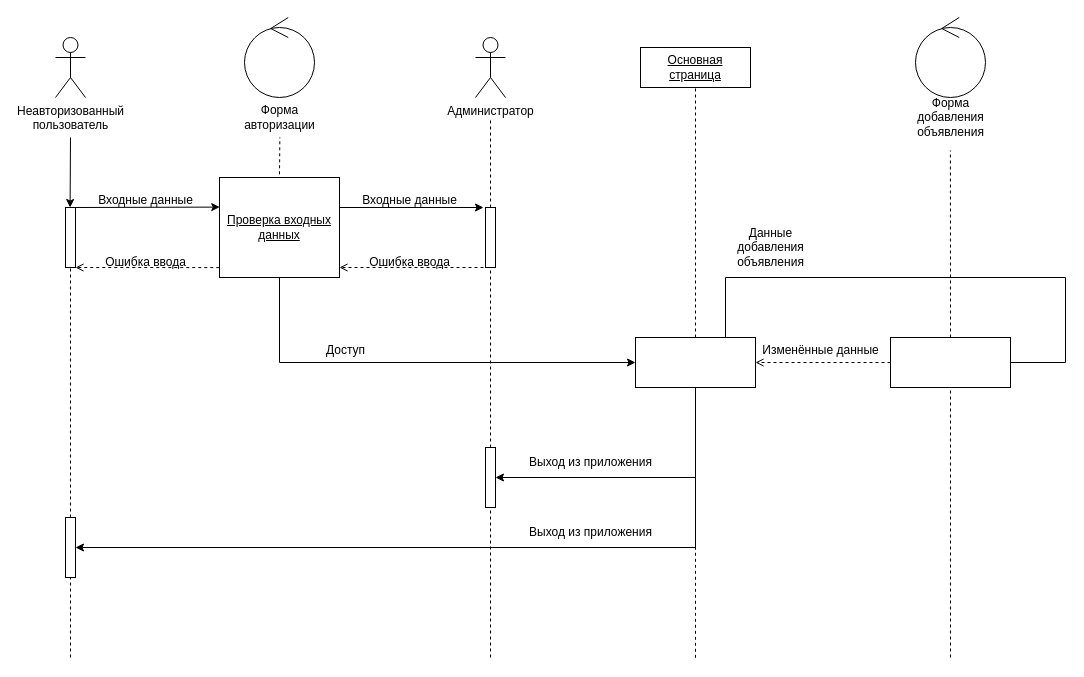
Some shapes in this 1084 by 677 pixel diagram are drawn without their labels. The box of each missing label's shape, as (x1, y1, x2, y2) in pixels:
Загрузка объявлений: (634, 336, 756, 388)
Изменение записей в базе данных: (890, 336, 1010, 388)
